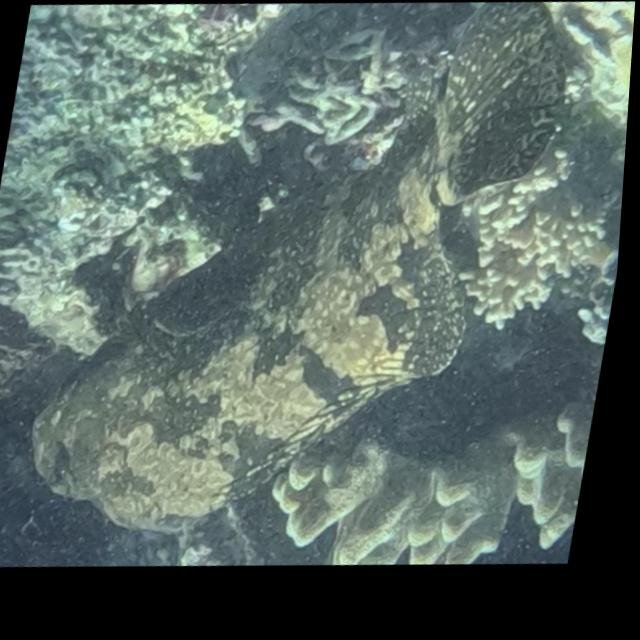Groupers: (2, 0, 589, 587)
